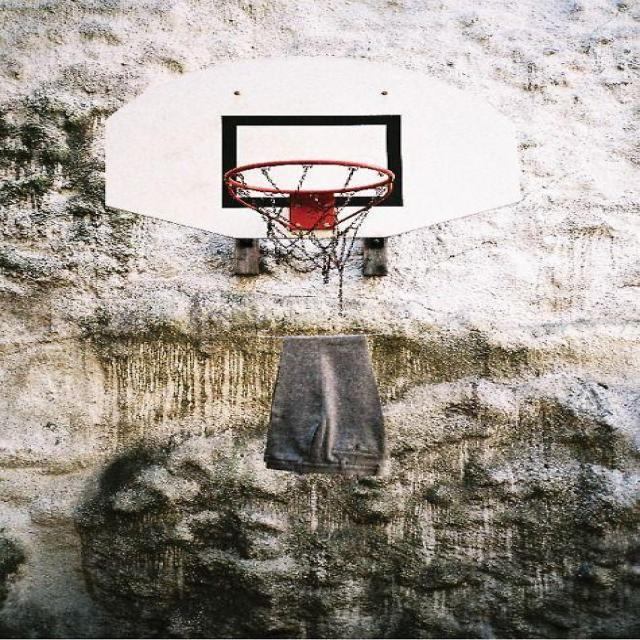hoop: (219, 170, 408, 278)
